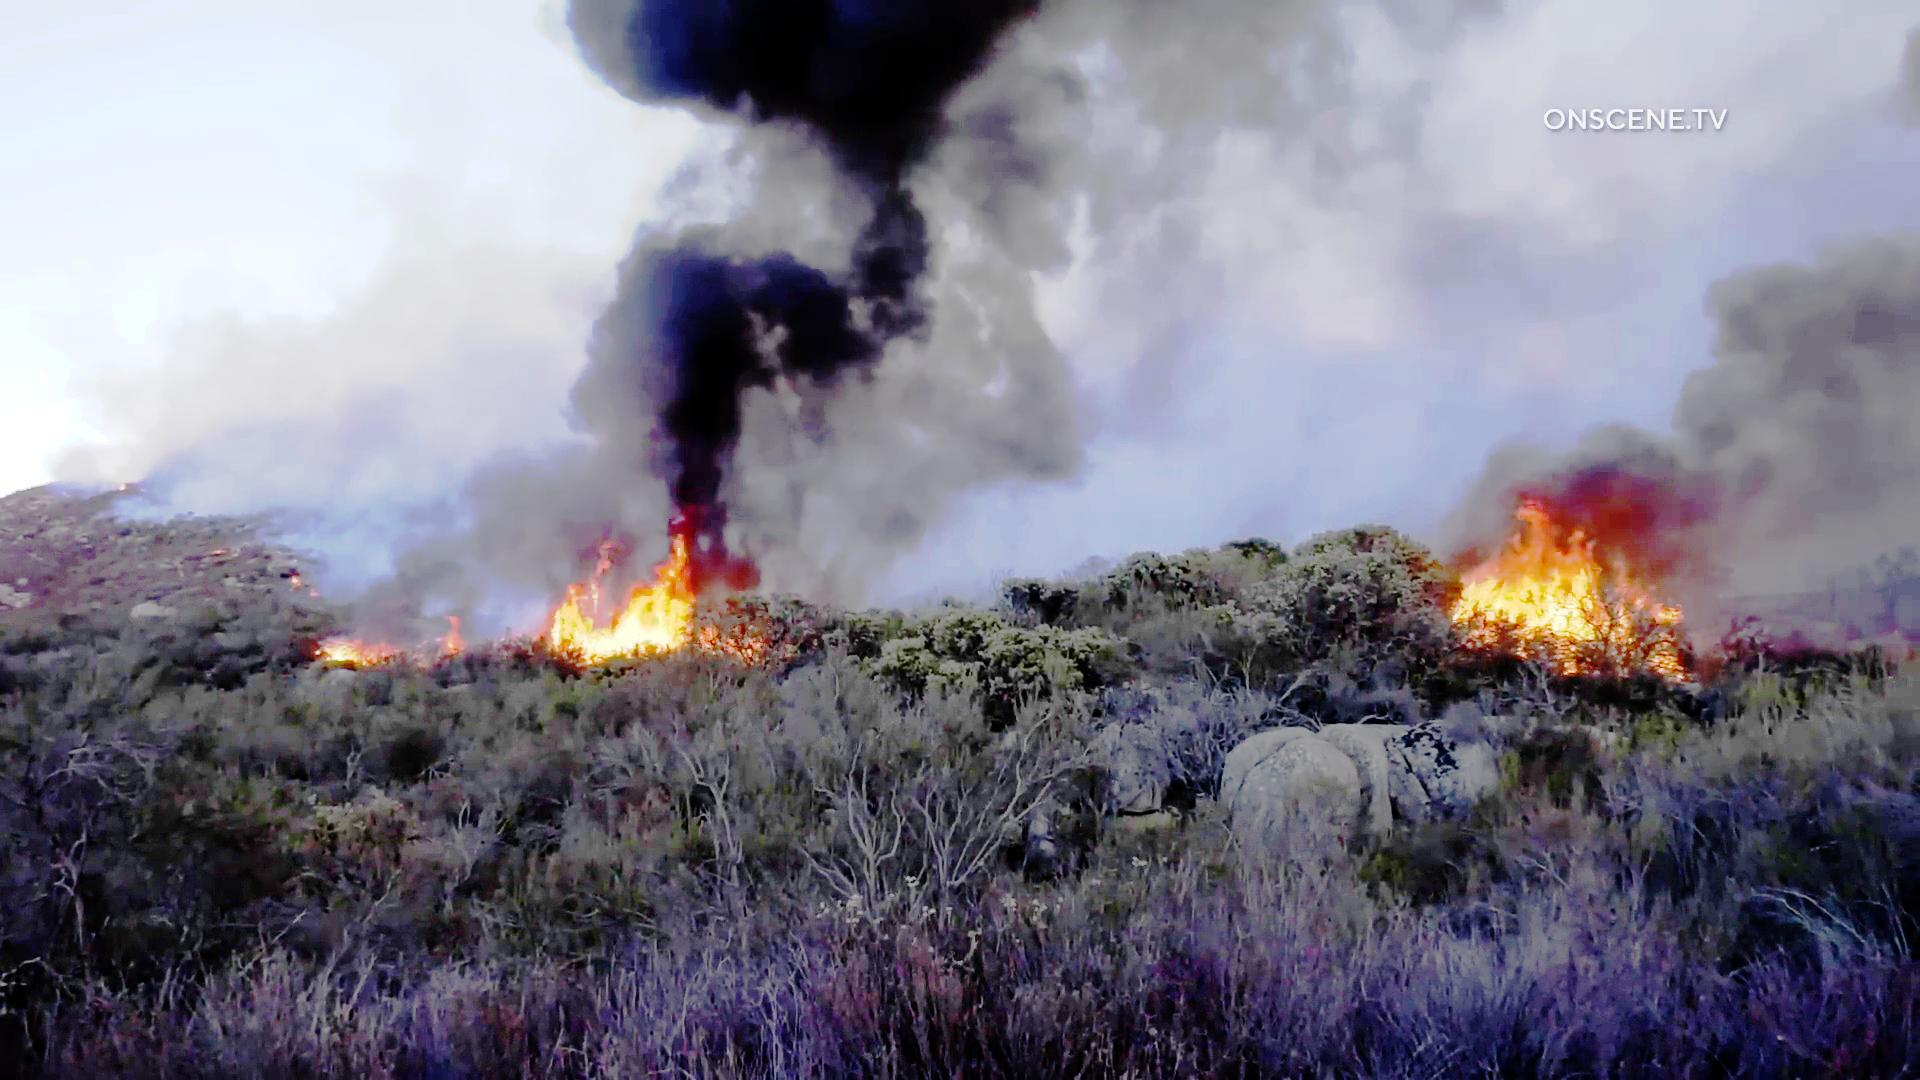fire: (1445, 473, 1671, 708), (546, 546, 709, 696)
smoke: (579, 0, 914, 534), (1613, 214, 1920, 472)
